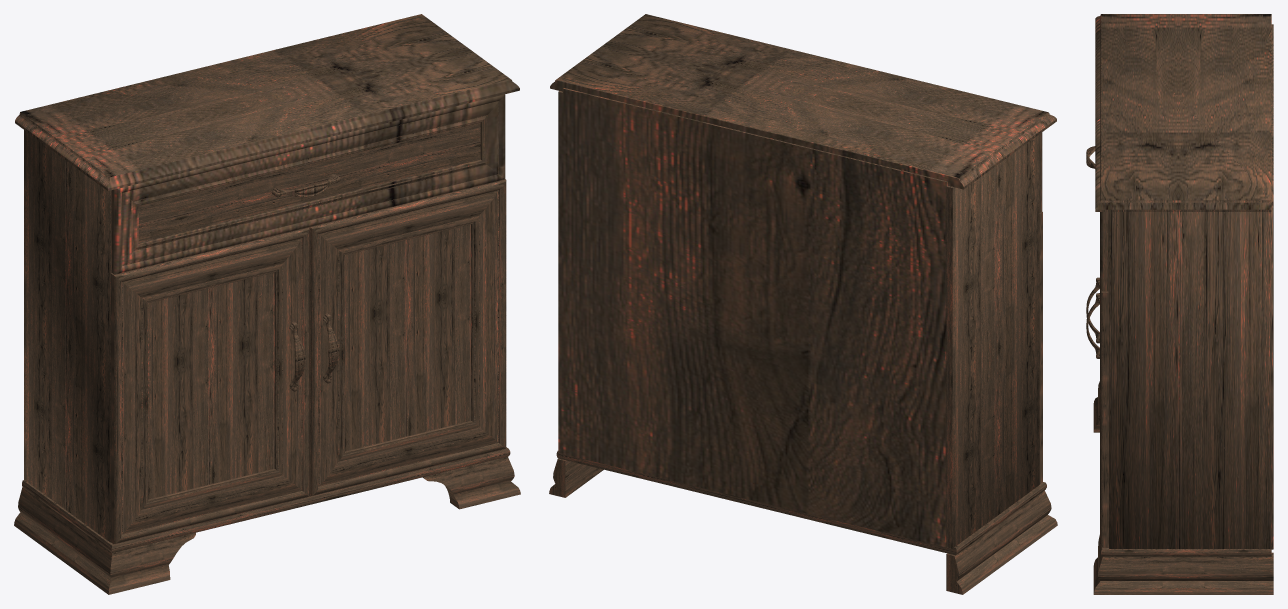
The model's file is bedside.obj.
3 views of the same model, side by side, from view 1: azimuth 30°, elevation 25°; view 2: azimuth 150°, elevation 25°; view 3: azimuth 270°, elevation 25° (orthographic). The views are drawn at different scales.
Parts seen in each view (by area): view 1: Object74, Object70, Object64, Object60, Object62, Object66, Object51, Object52, Object75, Object72, Object61, Object65 (+2 smaller); view 2: Object71, Object74, Object70, Object75, Object72, Object63, Object73, Object64; view 3: Object63, Object74, Object73, Object60, Object72, Object51, Object71, Object58, Object75, Object67.
Part boxes in pixels (x1,y1,x2,y2): Object74: [15, 14, 519, 190]; Object70: [24, 130, 111, 542]; Object64: [110, 227, 309, 544]; Object60: [309, 179, 505, 496]; Object62: [345, 224, 471, 451]; Object66: [148, 272, 274, 499]; Object51: [111, 94, 505, 274]; Object52: [138, 122, 480, 242]; Object75: [14, 487, 195, 594]; Object72: [22, 447, 510, 552]; Object61: [310, 180, 506, 496]; Object65: [114, 228, 309, 544]; Object71: [562, 88, 947, 547]; Object74: [550, 14, 1056, 189]; Object70: [946, 134, 1039, 548]; Object75: [946, 490, 1057, 594]; Object72: [556, 451, 1046, 555]; Object63: [558, 91, 564, 453]; Object73: [549, 458, 603, 497]; Object64: [1039, 211, 1042, 483]; Object63: [1109, 205, 1273, 549]; Object74: [1095, 14, 1271, 211]; Object73: [1093, 535, 1273, 594]; Object60: [1100, 288, 1108, 547]; Object72: [1101, 546, 1271, 556]; Object51: [1100, 212, 1108, 291]; Object71: [1271, 24, 1273, 205]; Object58: [1086, 293, 1099, 358]; Object75: [1093, 381, 1099, 432]; Object67: [1086, 277, 1099, 343].
Size of the model in its own units: 0.9396 by 0.9002 by 0.389.
1 material, 1 textured.
